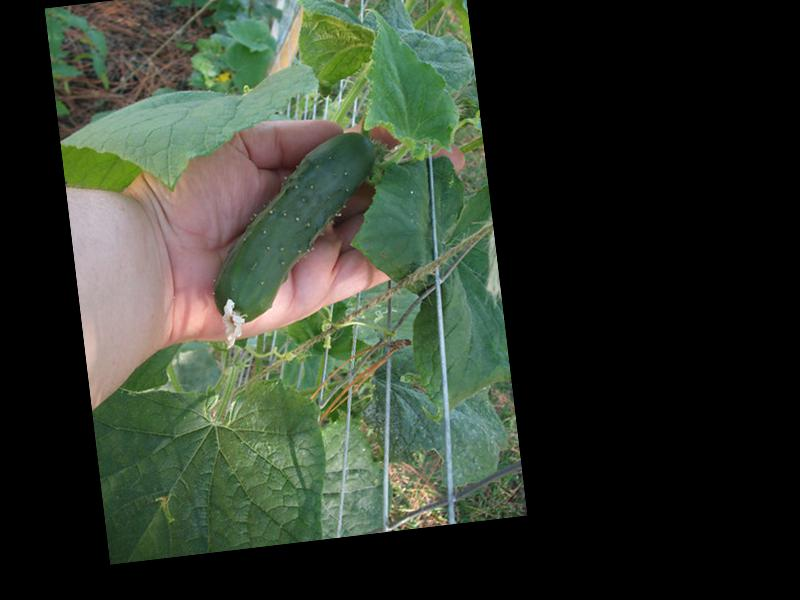Cucumber: (197, 131, 395, 351)
